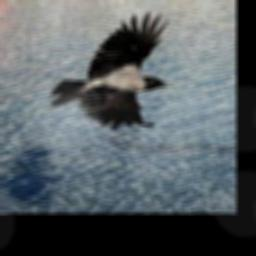Crow: (49, 10, 172, 127)
